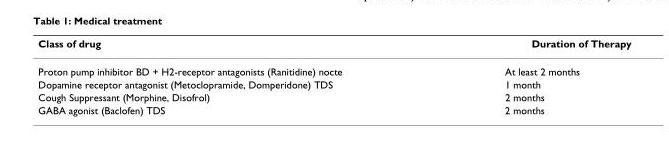table: (37, 36, 630, 115)
table column: (37, 36, 422, 115), (422, 36, 630, 115)
table column header: (37, 36, 630, 56)
table row: (37, 56, 630, 77), (37, 36, 630, 56), (37, 77, 630, 90), (37, 90, 630, 103), (37, 103, 630, 115)
